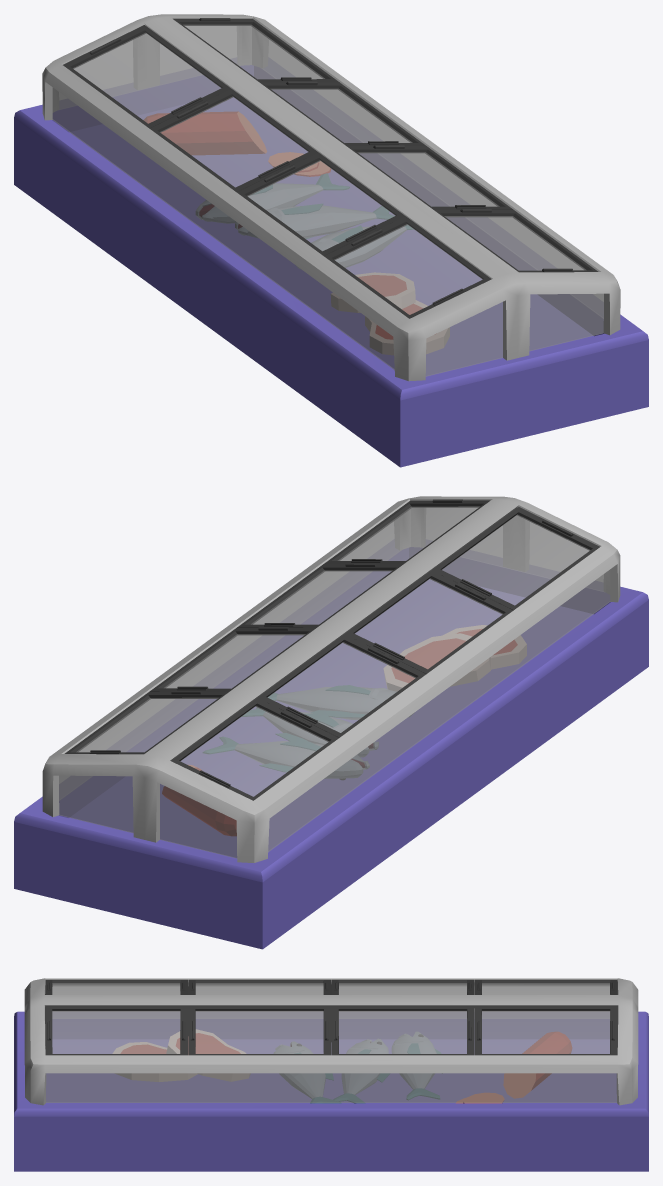
The model's file is Obstacle_Freezer.fbx.
3 views of the same model, one above another, from view 1: azimuth 30°, elevation 25°; view 2: azimuth 150°, elevation 25°; view 3: azimuth 270°, elevation 25° (orthographic). The views are drawn at different scales.
Parts seen in each view (by area): view 1: Meat_freezer; view 2: Meat_freezer; view 3: Meat_freezer.
Part boxes in pixels (box(x1,y1,x2,y2)): Meat_freezer: box(14, 14, 648, 467); Meat_freezer: box(14, 496, 648, 949); Meat_freezer: box(14, 978, 648, 1171).
Size of the model in its own units: 81.38 by 46.76 by 219.
